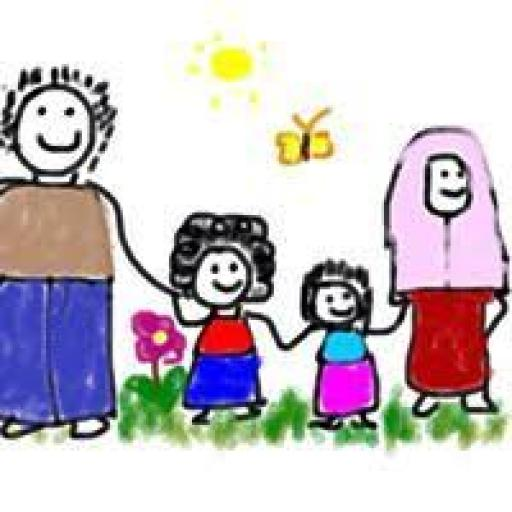person: (0, 44, 153, 446), (386, 118, 512, 420), (138, 206, 283, 434), (282, 256, 381, 436)
